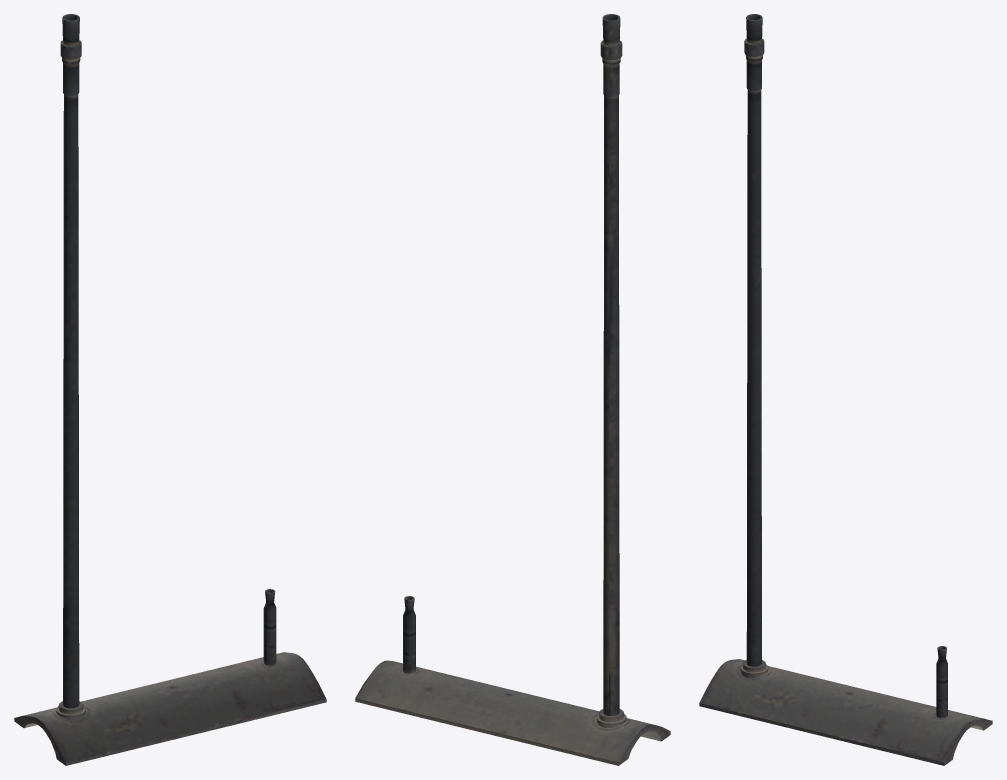
Rendered from Gun_06.glb.
3 renders of one model, left to right at view 1: azimuth 30°, elevation 25°; view 2: azimuth 150°, elevation 25°; view 3: azimuth 330°, elevation 25°, orthographic. The views are drawn at different scales.
Visible parts, largest first — view 1: set_0_group_0; view 2: set_0_group_0; view 3: set_0_group_0.
Boxes of the visible parts, bbox=[...] form: set_0_group_0: bbox=[14, 14, 326, 765]; set_0_group_0: bbox=[355, 14, 670, 765]; set_0_group_0: bbox=[699, 14, 992, 765].
Bounding box in the file's own units: 0.8098 × 2.14 × 0.2771.
Materials: 1 (1 with a texture image).
